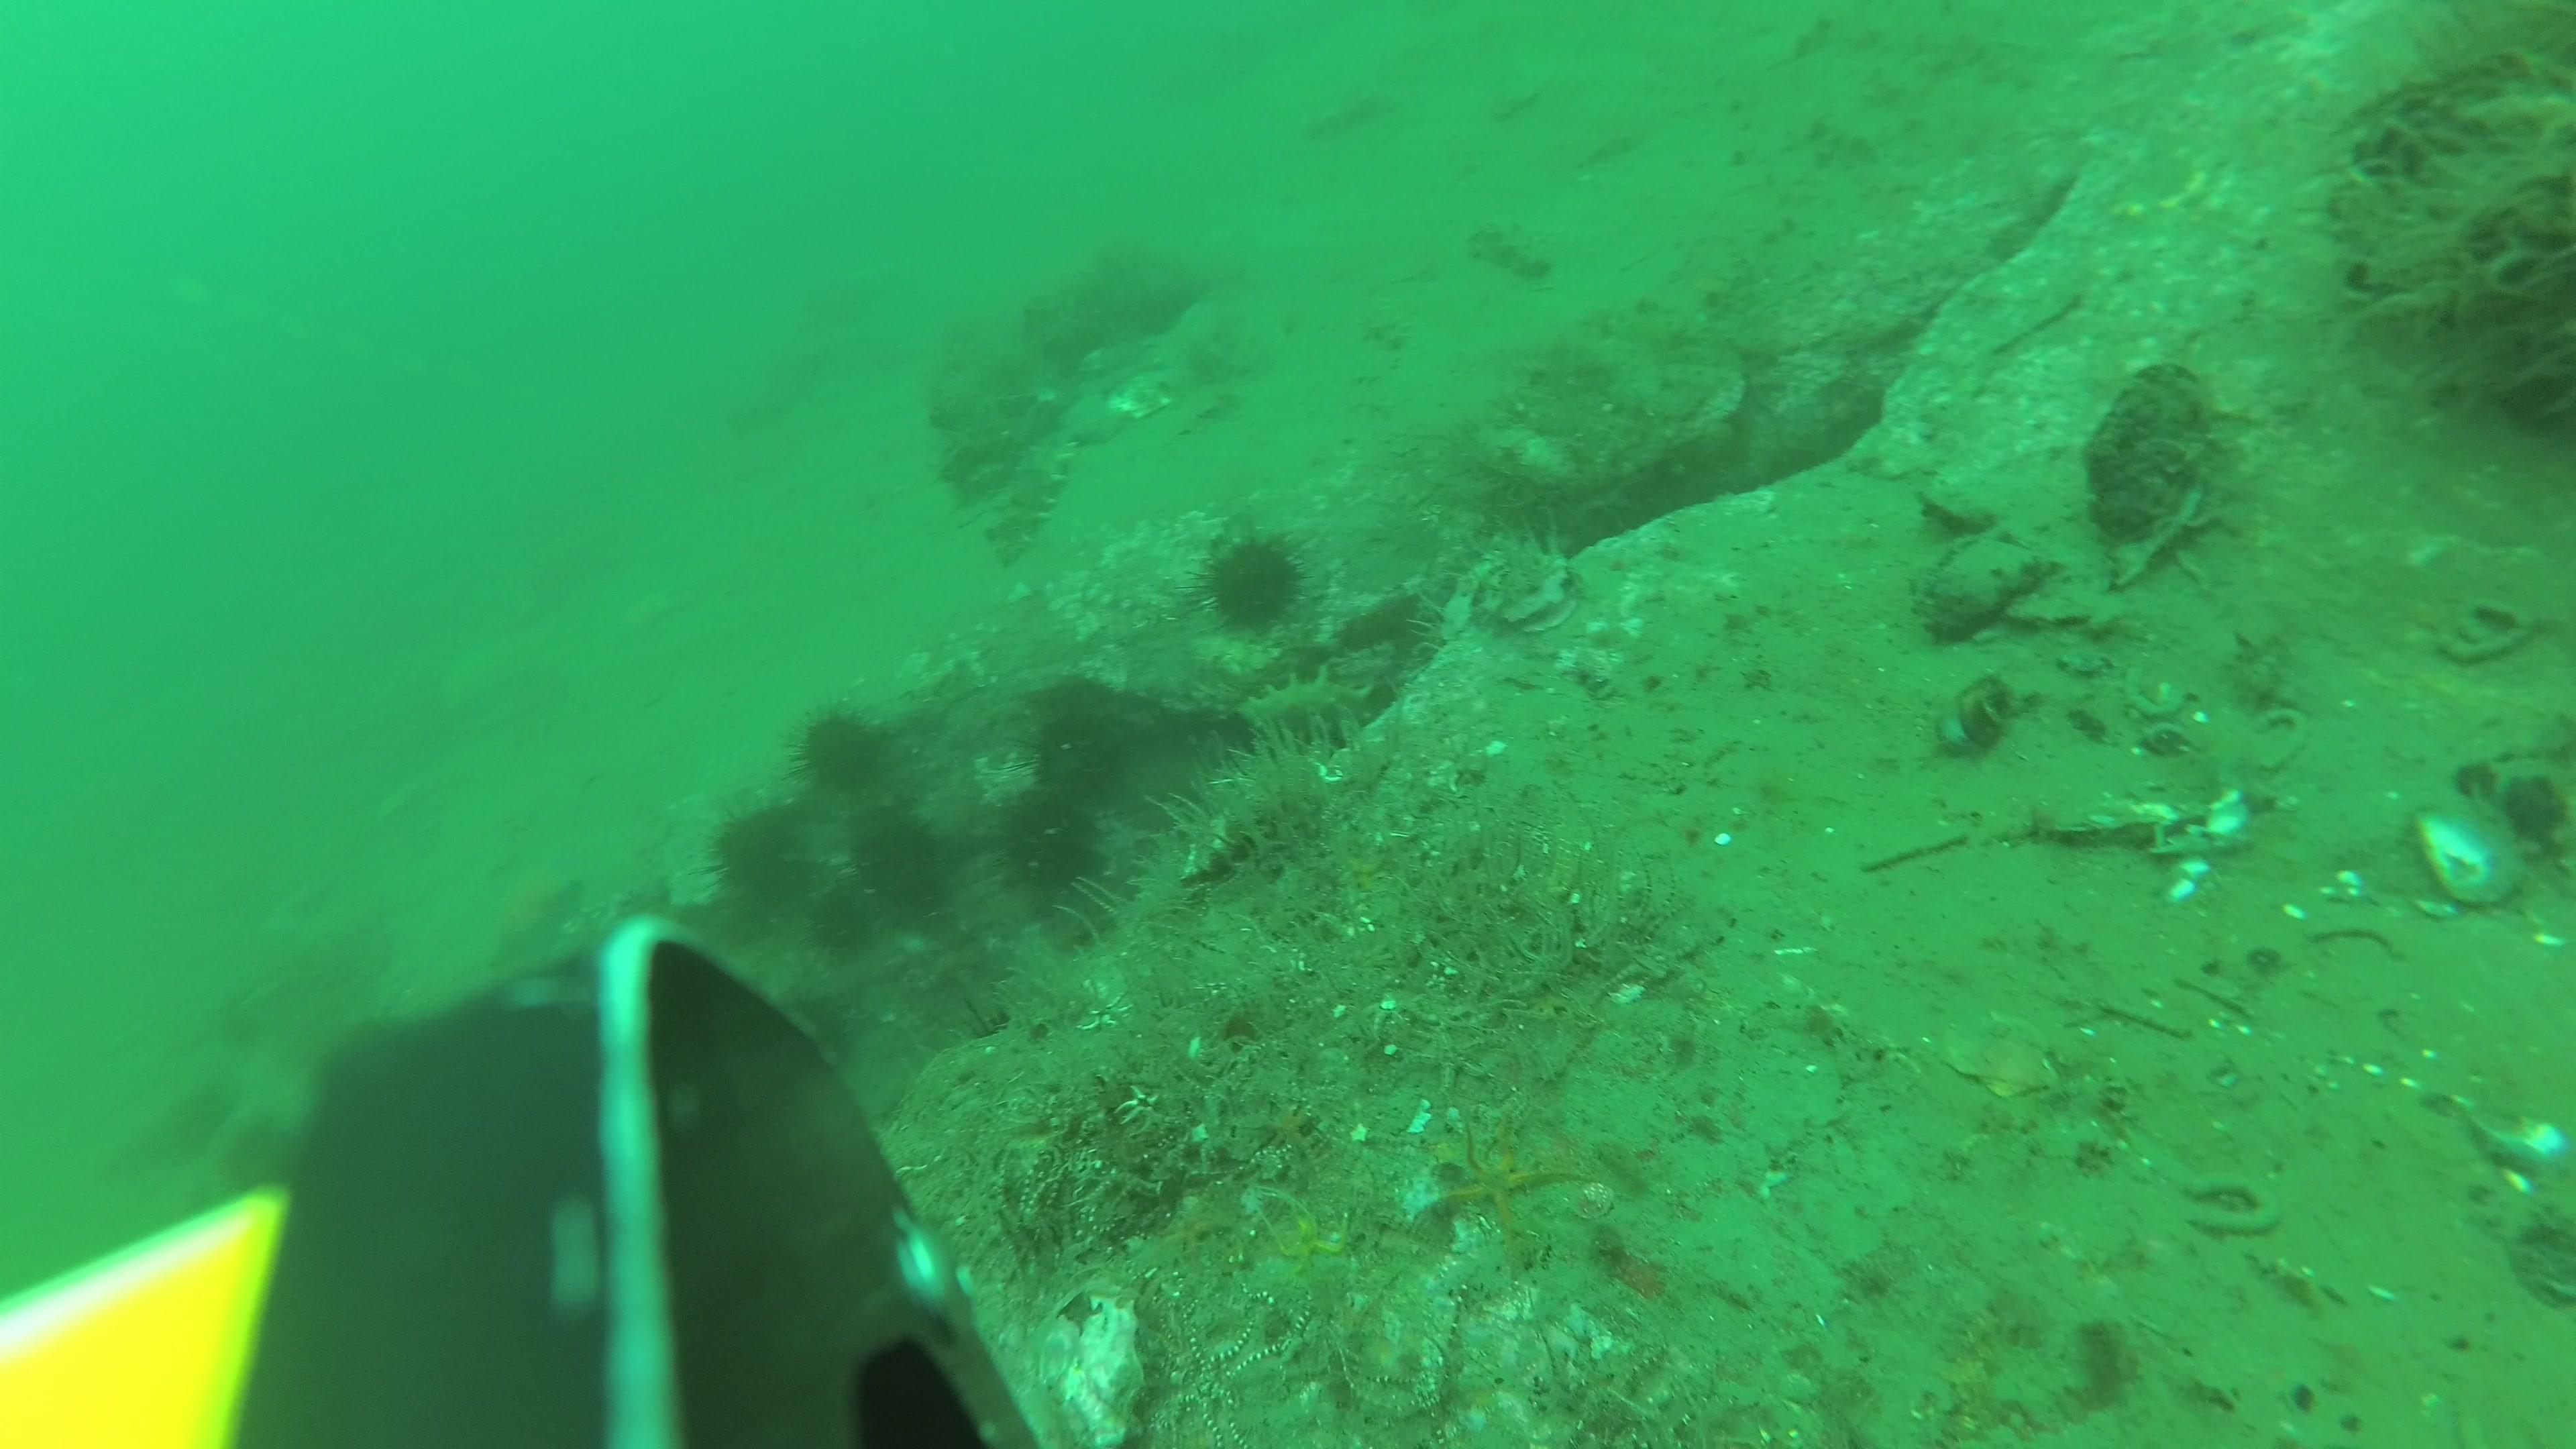echinus: (1194, 531, 1306, 633), (853, 817, 943, 920), (1030, 711, 1118, 805), (794, 713, 885, 800), (1005, 800, 1092, 890), (709, 809, 800, 893), (225, 1113, 297, 1192), (809, 885, 876, 957)
holothurian: (994, 433, 1074, 564), (1240, 674, 1376, 741), (1467, 223, 1548, 276), (1306, 92, 1391, 133), (1366, 317, 1414, 357)
scallop: (1944, 1008, 2061, 1100), (1108, 366, 1184, 419), (1488, 71, 1543, 122)
starfish: (1438, 1116, 1587, 1247), (1263, 1194, 1352, 1283), (1169, 1207, 1230, 1258)
